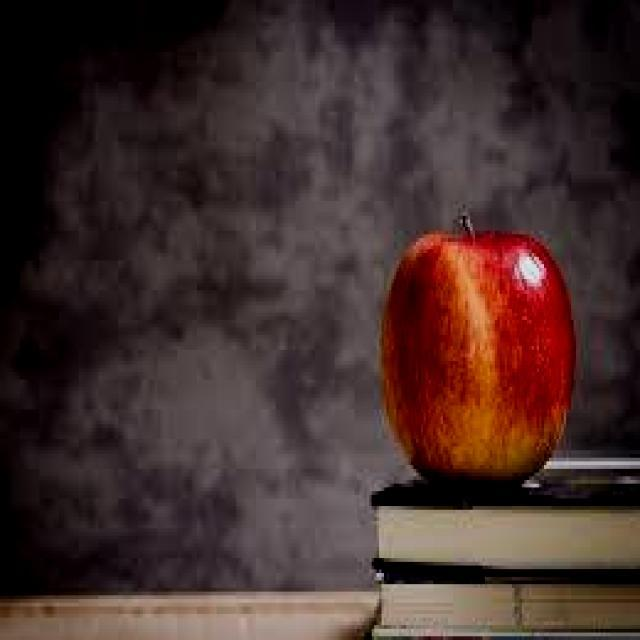apple: (364, 198, 586, 484)
